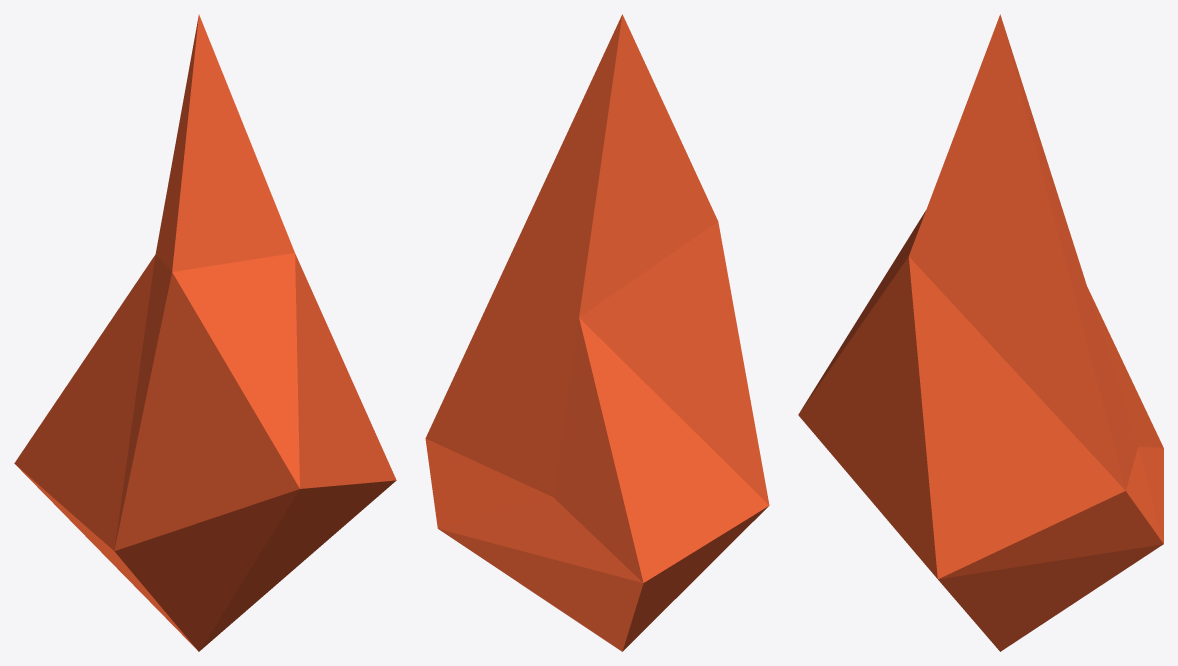
3 views of the same model, side by side, from view 1: azimuth 30°, elevation 25°; view 2: azimuth 150°, elevation 25°; view 3: azimuth 270°, elevation 25° (orthographic).
Parts seen in each view (by area): view 1: Model; view 2: Model; view 3: Model.
Boxes of the visible parts, x1=… form: Model: x1=14, y1=14, x2=396, y2=651; Model: x1=425, y1=14, x2=769, y2=651; Model: x1=798, y1=14, x2=1163, y2=651.
Size of the model in its own units: 8.66 by 18.69 by 9.71.
